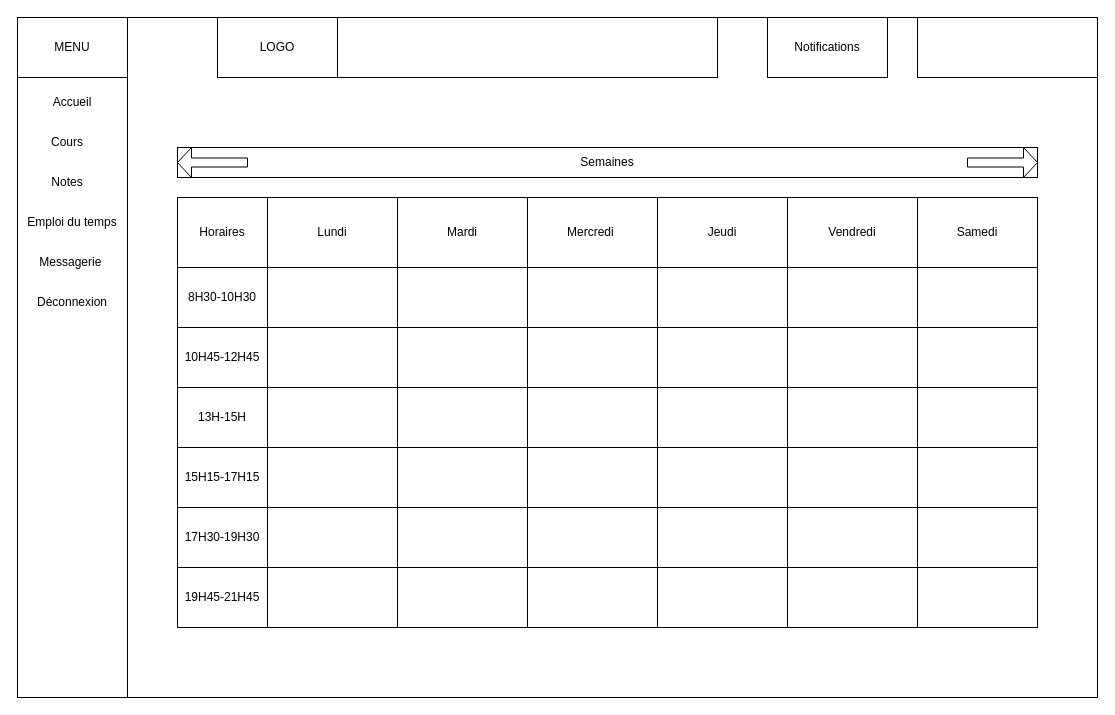
This 1115x715 diagram has some shape labels left out. The centre of each missing label's shape, as x and y in pixels:
Nom de l'utilisateur: pixel 1007 47
Nom du site: pixel 527 47
